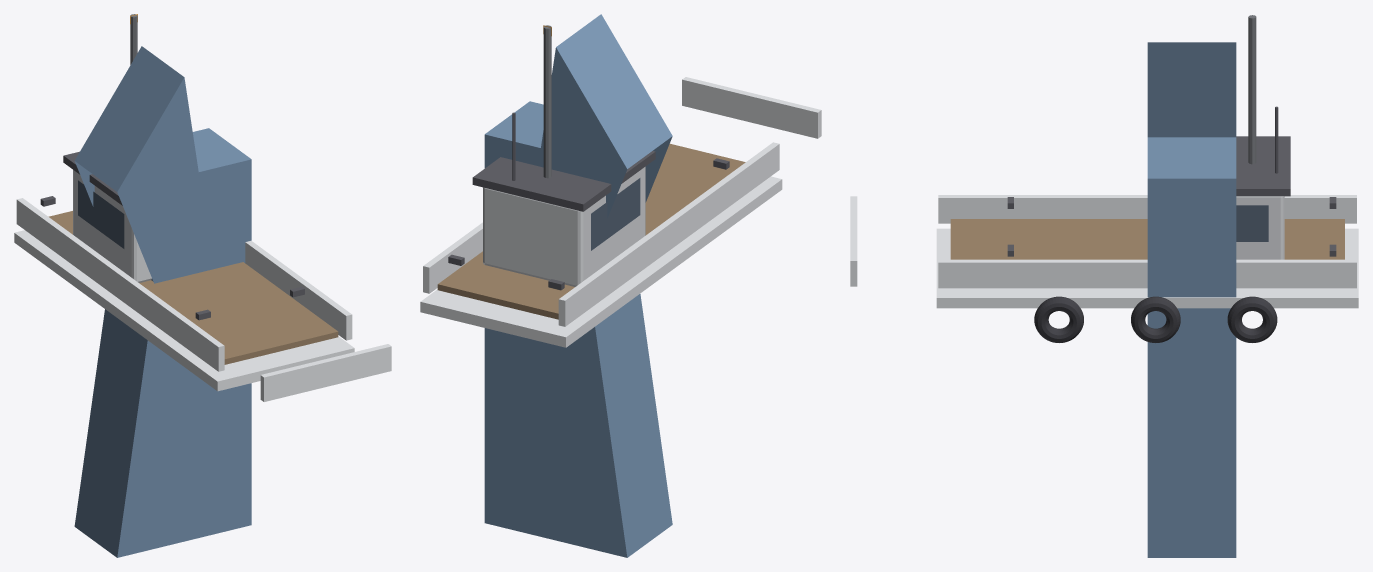
File: bt-hw-boat.glb
3 views of the same model, side by side, from view 1: azimuth 30°, elevation 25°; view 2: azimuth 150°, elevation 25°; view 3: azimuth 270°, elevation 25° (orthographic). The views are drawn at different scales.
Parts seen in each view (by area): view 1: bt-hw-boat_hull, bt-hw-boat_deck, bt-hw-boat_stripe, bt-hw-boat_gun-1, bt-hw-boat_gunbow, bt-hw-boat_gun1, bt-hw-boat_cabin, bt-hw-boat_winS-1, bt-hw-boat_cabroof; view 2: bt-hw-boat_hull, bt-hw-boat_cabin, bt-hw-boat_stripe, bt-hw-boat_deck, bt-hw-boat_gun-1, bt-hw-boat_cabroof, bt-hw-boat_gunbow, bt-hw-boat_winS-1, bt-hw-boat_gun1, bt-hw-boat_mast; view 3: bt-hw-boat_hull, bt-hw-boat_deck, bt-hw-boat_gun1, bt-hw-boat_stripe, bt-hw-boat_gun-1, bt-hw-boat_cabroof, bt-hw-boat_cabin, bt-hw-boat_fend-1.6, bt-hw-boat_fend-0.4, bt-hw-boat_fend0.8, bt-hw-boat_mast, bt-hw-boat_winS1 (+1 smaller).
Part boxes in pixels (x1,y1,x2,y2): bt-hw-boat_hull: [74, 46, 251, 557]; bt-hw-boat_deck: [48, 211, 338, 364]; bt-hw-boat_stripe: [14, 230, 354, 391]; bt-hw-boat_gun-1: [16, 198, 224, 371]; bt-hw-boat_gunbow: [260, 344, 391, 401]; bt-hw-boat_gun1: [245, 240, 352, 340]; bt-hw-boat_cabin: [73, 170, 151, 282]; bt-hw-boat_winS-1: [78, 180, 124, 248]; bt-hw-boat_cabroof: [63, 151, 122, 205]; bt-hw-boat_hull: [484, 14, 672, 557]; bt-hw-boat_cabin: [483, 166, 645, 286]; bt-hw-boat_stripe: [420, 176, 782, 347]; bt-hw-boat_deck: [437, 143, 745, 319]; bt-hw-boat_gun-1: [558, 142, 779, 326]; bt-hw-boat_cabroof: [472, 151, 655, 211]; bt-hw-boat_gunbow: [682, 77, 821, 138]; bt-hw-boat_winS-1: [591, 178, 640, 250]; bt-hw-boat_gun1: [423, 222, 482, 293]; bt-hw-boat_mast: [543, 25, 551, 178]; bt-hw-boat_hull: [1147, 42, 1236, 557]; bt-hw-boat_deck: [950, 219, 1344, 259]; bt-hw-boat_gun1: [938, 259, 1356, 288]; bt-hw-boat_stripe: [936, 228, 1358, 308]; bt-hw-boat_gun-1: [938, 195, 1356, 223]; bt-hw-boat_cabroof: [1236, 136, 1290, 196]; bt-hw-boat_cabin: [1236, 196, 1284, 259]; bt-hw-boat_fend-1.6: [1227, 296, 1277, 342]; bt-hw-boat_fend-0.4: [1131, 296, 1180, 342]; bt-hw-boat_fend0.8: [1034, 296, 1083, 342]; bt-hw-boat_mast: [1248, 15, 1256, 164]; bt-hw-boat_winS1: [1236, 205, 1268, 241].
Bounding box in the file's own units: 2.19 × 6.96 × 6.31.
